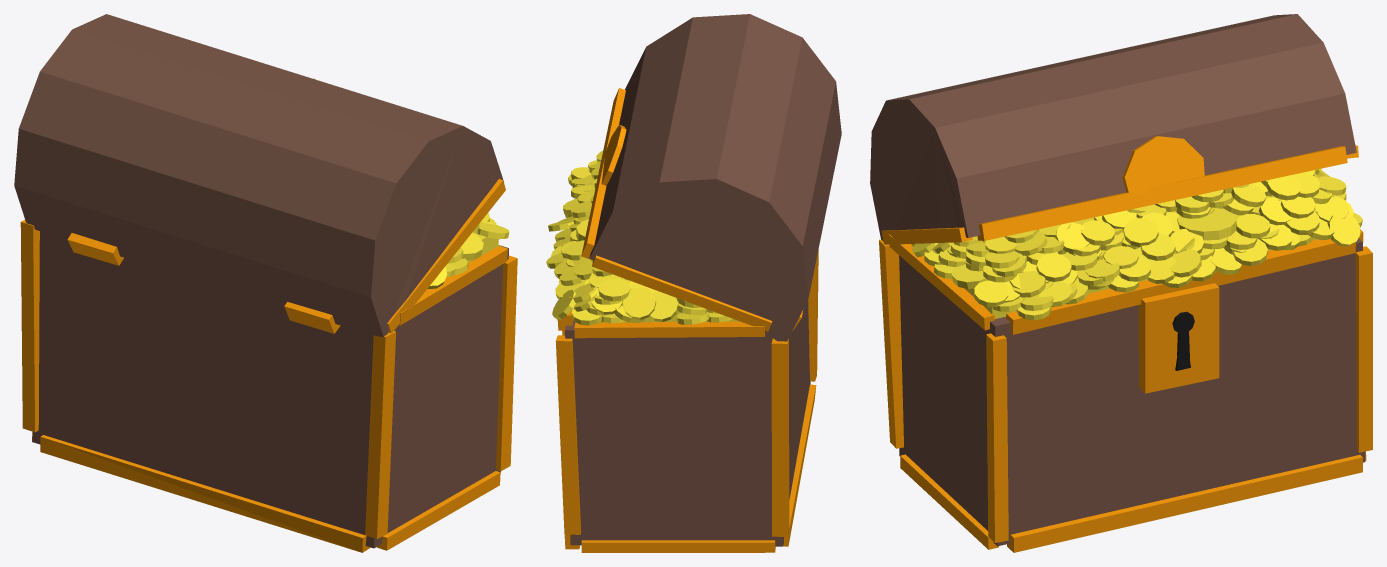
Rendered from Treasure.glb.
3 renders of one model, left to right at view 1: azimuth 30°, elevation 25°; view 2: azimuth 150°, elevation 25°; view 3: azimuth 270°, elevation 25°, orthographic. The views are drawn at different scales.
Visible parts, largest first — view 1: group944139164, group1673624899, group1176336403, group1253408431, group2130799938, group1188779229, group929752709, group2141862034, group833255169; view 2: group944139164, group1673624899, group2130799938, group1135518375, group621290532, group1111637101, group1596027011, group1849654143, group1176336403, group1253408431, group476825830, group608746827 (+4 smaller); view 3: group1673624899, group944139164, group1948885995, group89601079, group1849654143, group1276403759, group1188779229, group1253408431, group1135518375, group608746827, group833255169, group929752709 (+18 smaller).
Boxes of the visible parts, <box> form: group944139164: <box>14,14,503,337</box>; group1673624899: <box>32,231,508,548</box>; group1176336403: <box>40,435,370,552</box>; group1253408431: <box>365,331,395,538</box>; group2130799938: <box>20,220,39,432</box>; group1188779229: <box>496,255,517,471</box>; group929752709: <box>377,471,500,550</box>; group2141862034: <box>387,179,505,333</box>; group833255169: <box>399,245,507,325</box>; group944139164: <box>589,14,841,341</box>; group1673624899: <box>565,300,810,546</box>; group2130799938: <box>771,338,789,536</box>; group1135518375: <box>555,335,581,534</box>; group621290532: <box>574,321,765,338</box>; group1111637101: <box>581,540,775,552</box>; group1596027011: <box>592,255,772,331</box>; group1849654143: <box>581,88,625,260</box>; group1176336403: <box>783,384,816,546</box>; group1253408431: <box>808,249,818,381</box>; group476825830: <box>623,287,656,319</box>; group608746827: <box>601,124,626,185</box>; group1673624899: <box>899,238,1365,546</box>; group944139164: <box>870,14,1356,241</box>; group1948885995: <box>1138,283,1219,393</box>; group89601079: <box>1007,455,1362,552</box>; group1849654143: <box>977,146,1347,240</box>; group1276403759: <box>1006,238,1355,334</box>; group1188779229: <box>986,333,1008,542</box>; group1253408431: <box>879,239,903,448</box>; group1135518375: <box>1355,246,1372,452</box>; group608746827: <box>1122,136,1204,194</box>; group833255169: <box>888,234,994,330</box>; group929752709: <box>900,454,998,549</box>.
Bounding box in the file's own units: 0.3611 × 0.3813 × 0.4293.
